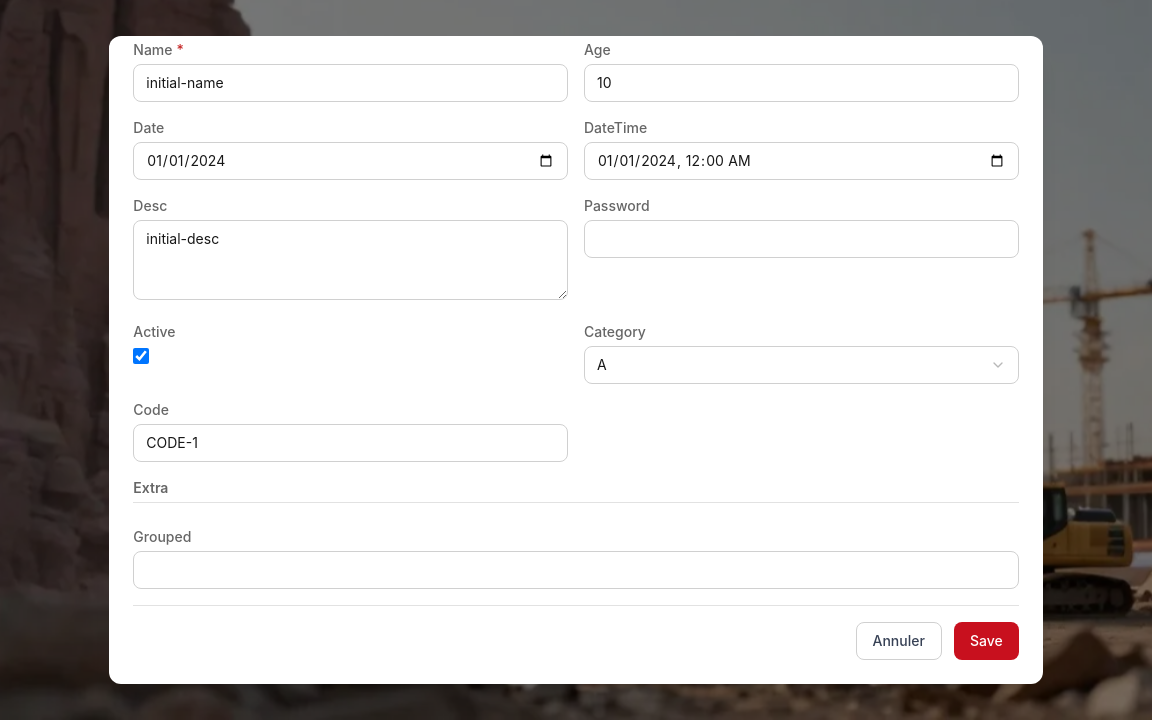
Test: EntityFormDialog.tsx › closes the form error when the user edits a field after a validation error
The width and height of the screenshot is (1152, 720).
(page scrolled)
Step 1. Click the button "Save" → (986, 641), box [954,622,1019,660]
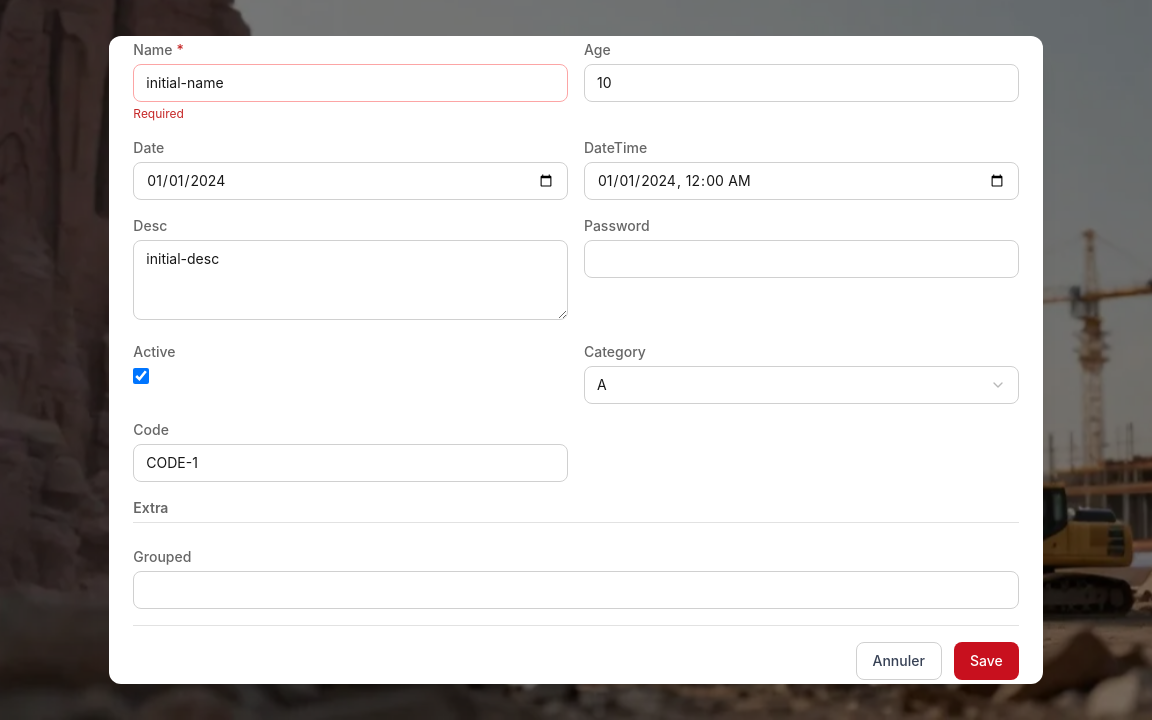
Expected: the text "Required" is shown, [133,106,184,121]
editing the field clears its error
Step 2. Replace the text in the field showing "initial-name" below "Name" with "fixed" → (351, 83), box [133,64,568,102]
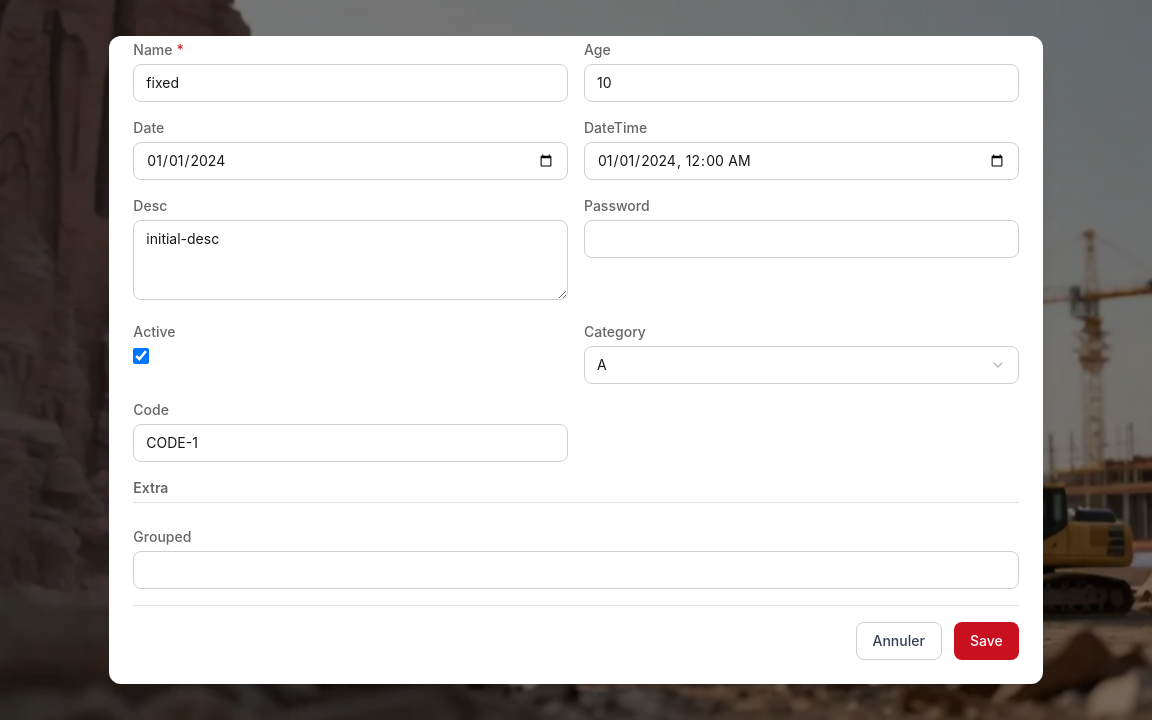
Expected: the text "Required" is gone
